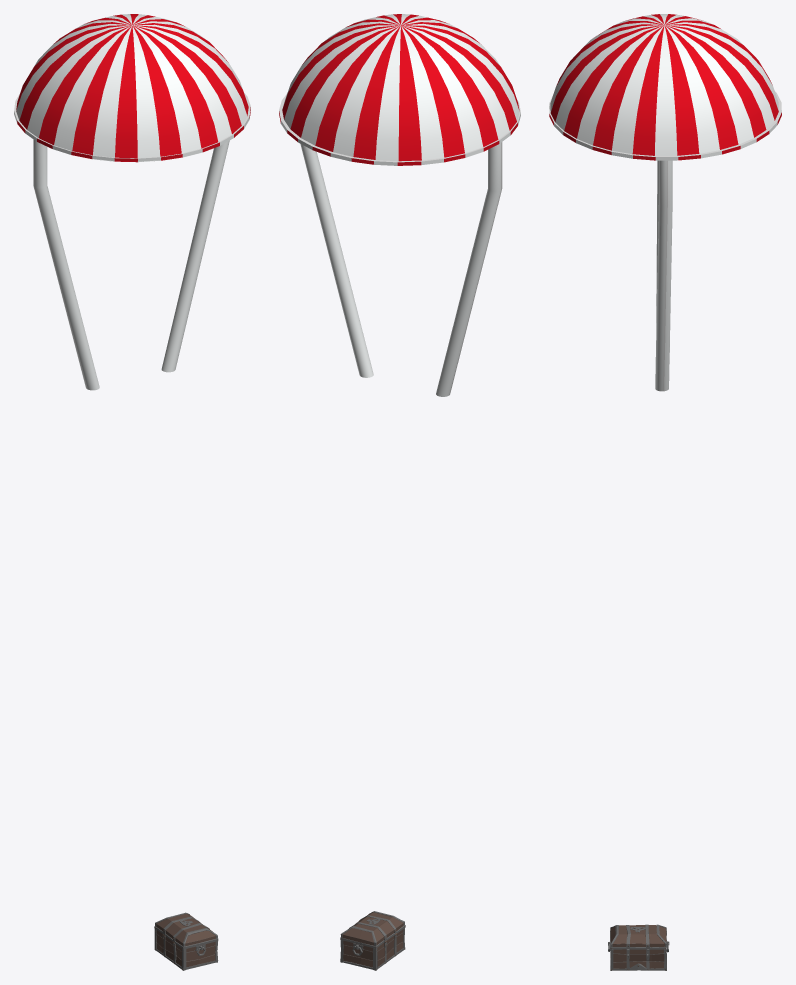
File: uploads_files_4272818_Parachute+.fbx
3 renders of one model, left to right at view 1: azimuth 30°, elevation 25°; view 2: azimuth 150°, elevation 25°; view 3: azimuth 270°, elevation 25°, orthographic. The views are drawn at different scales.
Parts seen in each view (by area): view 1: Sphère.002, Sphère.001, Sphère.003, chest.003, chest.002, Sphère; view 2: Sphère.002, Sphère.001, Sphère.003, chest.003, chest.002, Sphère; view 3: Sphère.001, Sphère.002, Sphère.003, chest.003, chest.002, Sphère.
Part boxes in pixels (left/top/right/bottom): Sphère.002: left=16, top=14, right=250, bottom=162; Sphère.001: left=14, top=14, right=249, bottom=162; Sphère.003: left=33, top=139, right=229, bottom=390; chest.003: left=154, top=912, right=218, bottom=949; chest.002: left=154, top=929, right=218, bottom=970; Sphère: left=14, top=93, right=250, bottom=389; Sphère.002: left=279, top=14, right=519, bottom=165; Sphère.001: left=281, top=14, right=520, bottom=165; Sphère.003: left=300, top=142, right=502, bottom=396; chest.003: left=340, top=911, right=405, bottom=948; chest.002: left=340, top=928, right=405, bottom=970; Sphère: left=279, top=94, right=520, bottom=395; Sphère.001: left=549, top=14, right=778, bottom=160; Sphère.002: left=549, top=14, right=781, bottom=160; Sphère.003: left=655, top=160, right=672, bottom=391; chest.003: left=610, top=924, right=666, bottom=959; chest.002: left=608, top=940, right=669, bottom=970; Sphère: left=549, top=91, right=781, bottom=391.
Size of the model in its own units: 270 by 1175 by 270.
